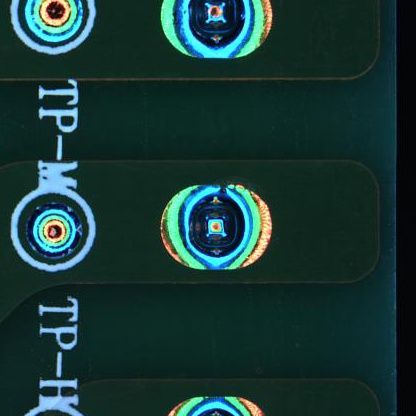spot: (148, 165, 289, 281), (25, 198, 81, 259)
